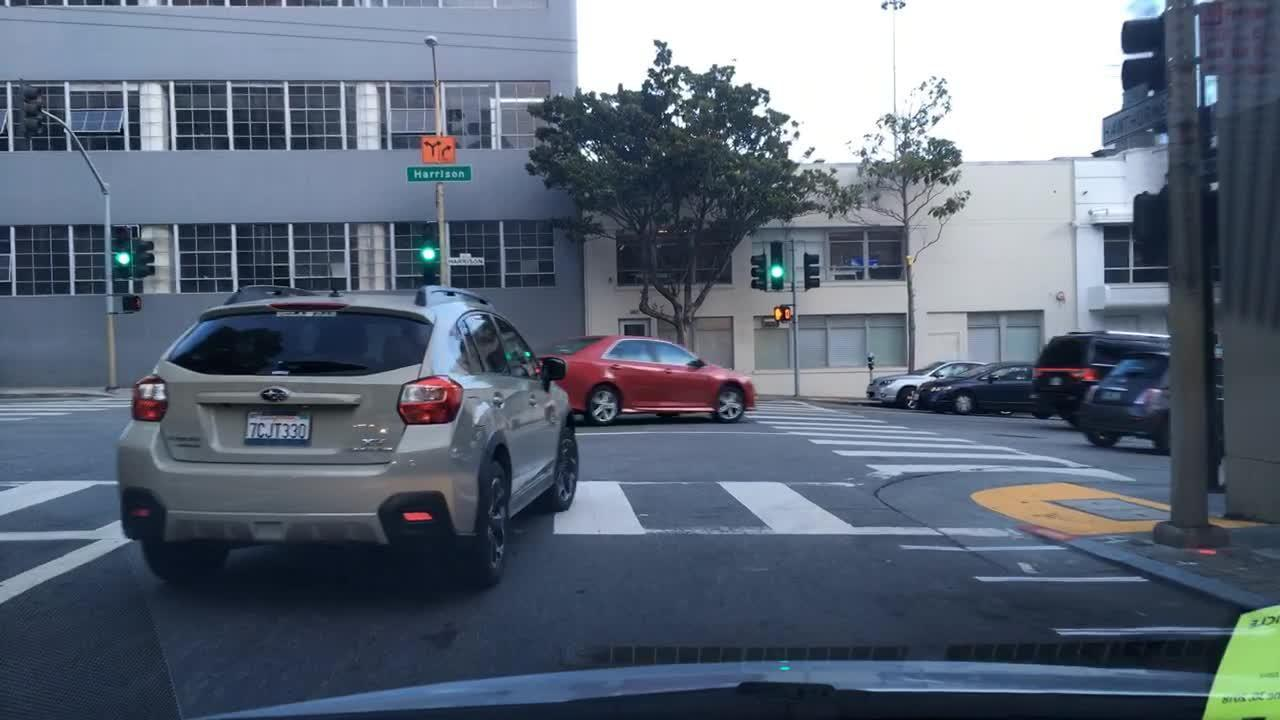subaru: (255, 377, 301, 411)
